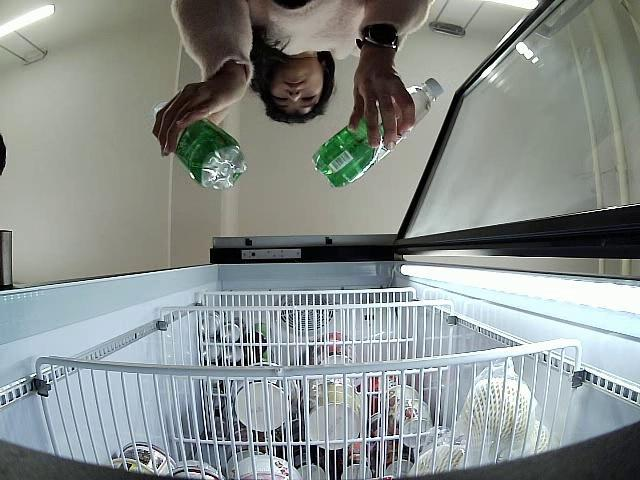18_trevi: (312, 78, 444, 190), (152, 101, 250, 195)
